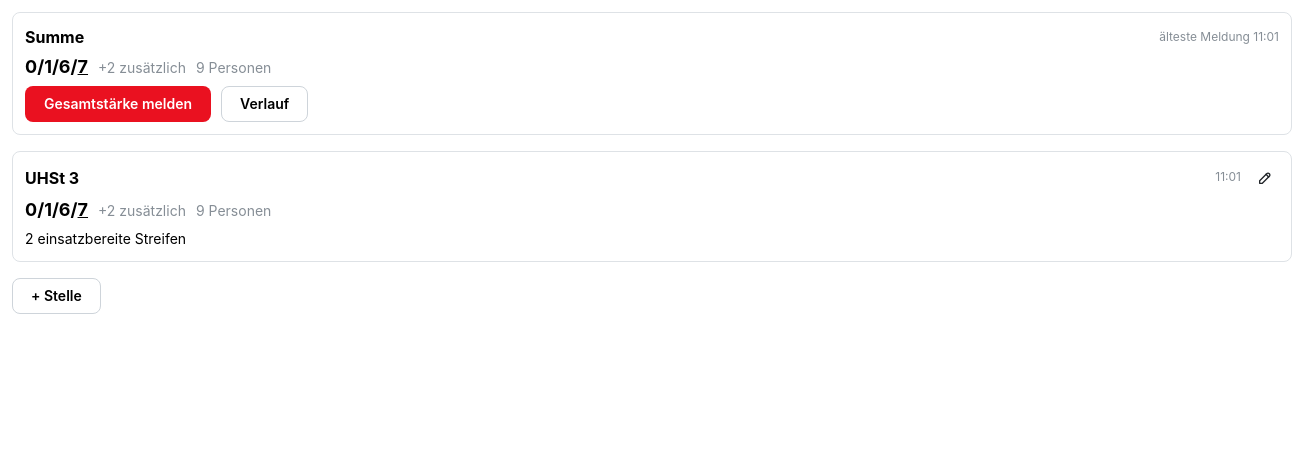
it: StrengthPanel › reporting › opens the form from anywhere on the card, but not from the pencil
Click the button named "UHSt 3 umbenennen" at (1265, 178), box [1251, 164, 1279, 192]
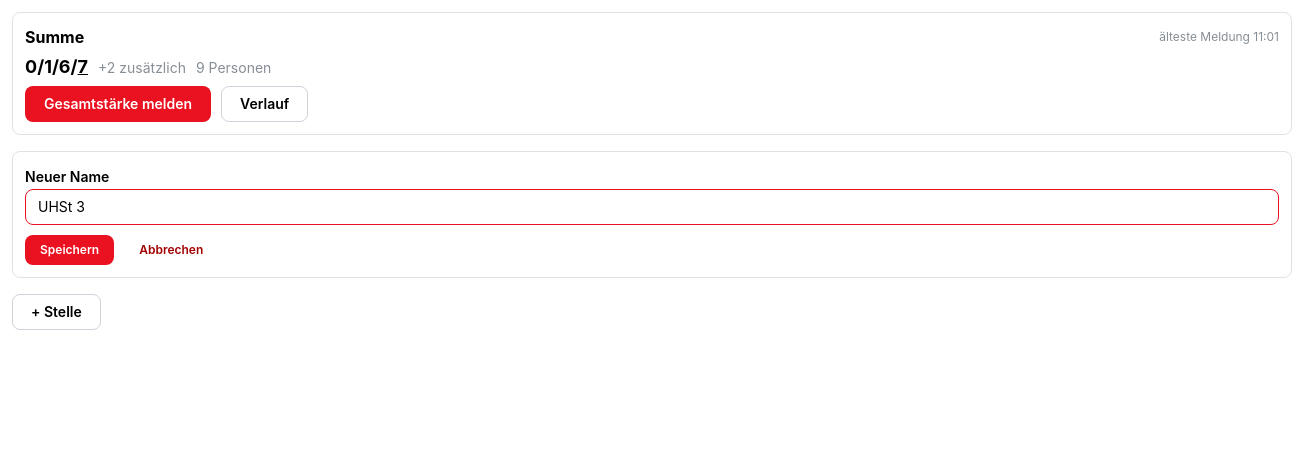
Expected: the heading "UHSt 3 · neue Meldung" is not shown
Click the button "Abbrechen" at (171, 250), box [124, 235, 218, 265]
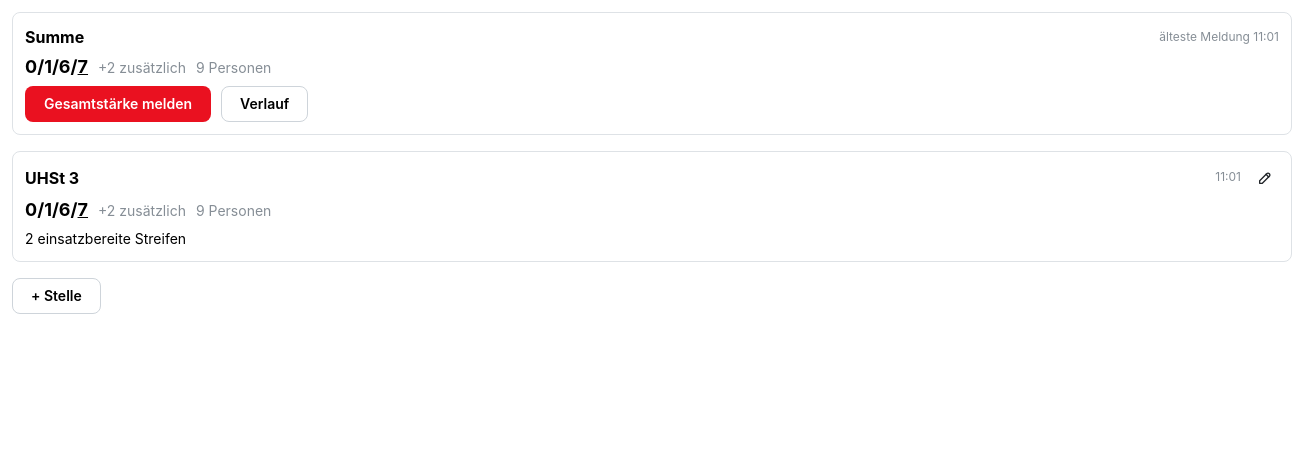
Click the 2nd text "9 Personen" at (234, 211), box [196, 201, 271, 221]
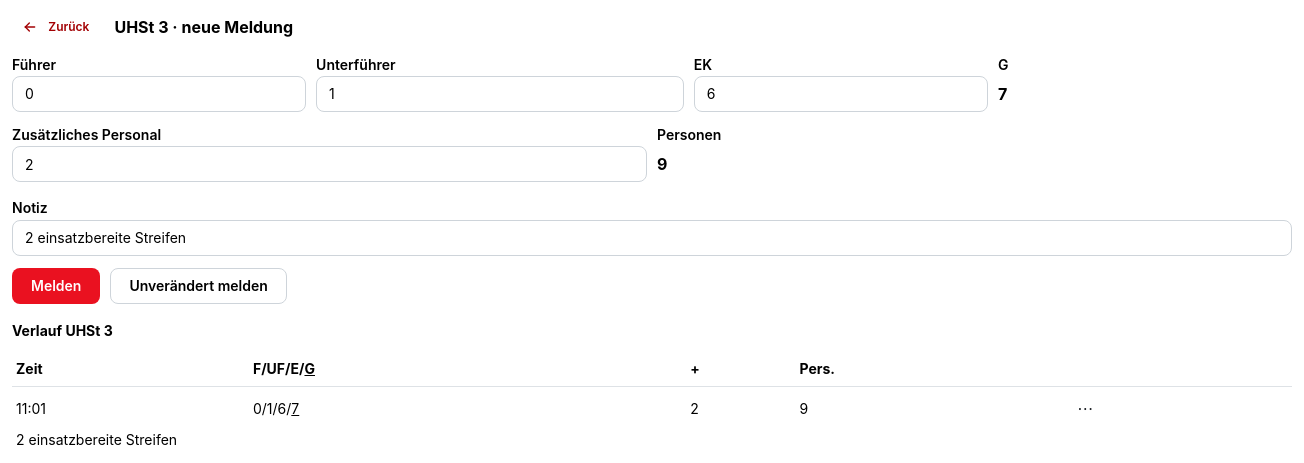
Expected: the heading "UHSt 3 · neue Meldung" is shown, [114, 15, 293, 39]
